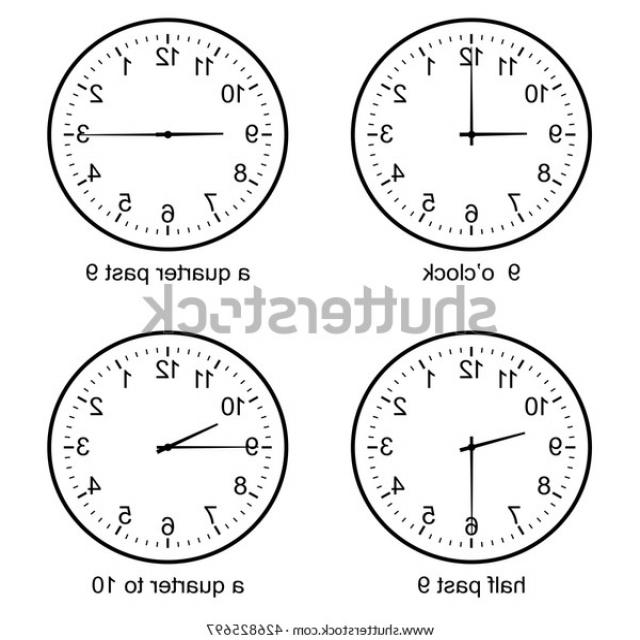clock: (276, 38, 602, 300)
